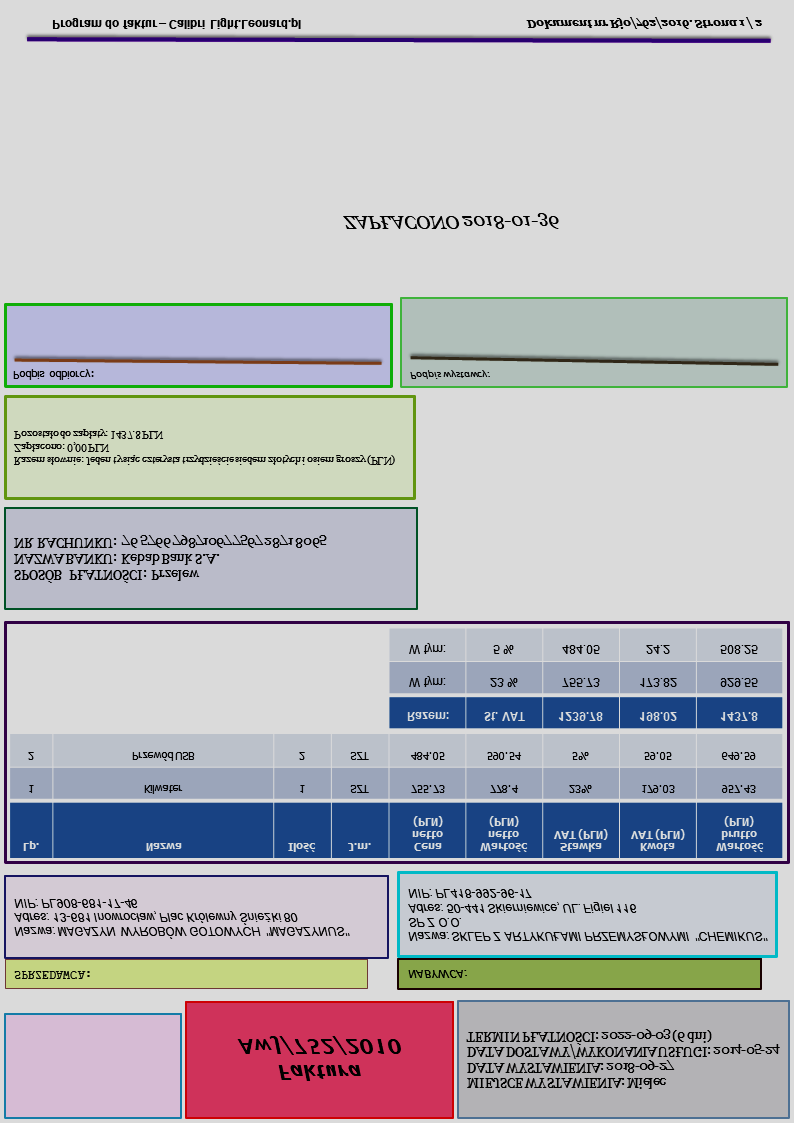Table: (9, 733, 783, 859), (387, 627, 784, 731)
TextBox: (404, 886, 770, 946), (465, 1026, 782, 1094), (12, 531, 328, 589), (12, 426, 398, 469), (12, 895, 353, 941), (234, 1032, 406, 1086), (339, 211, 565, 235), (49, 15, 304, 35), (525, 14, 765, 35), (11, 367, 96, 387), (11, 967, 92, 986), (406, 368, 489, 385), (404, 967, 468, 985)
